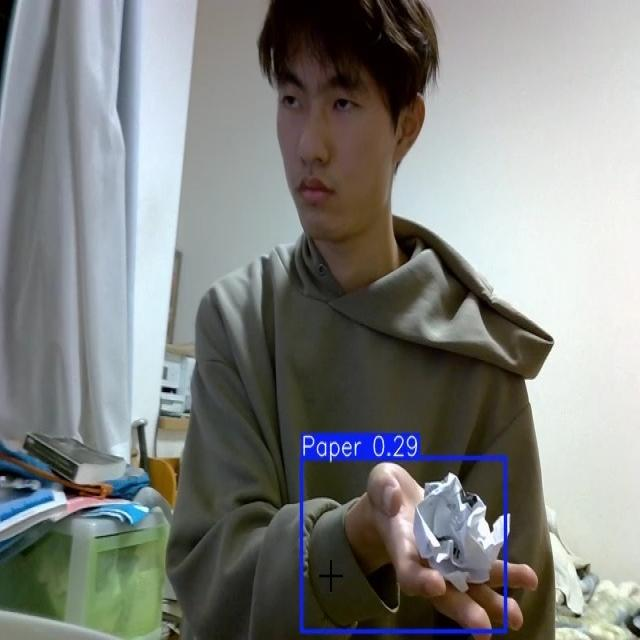paper: (412, 471, 510, 593)
